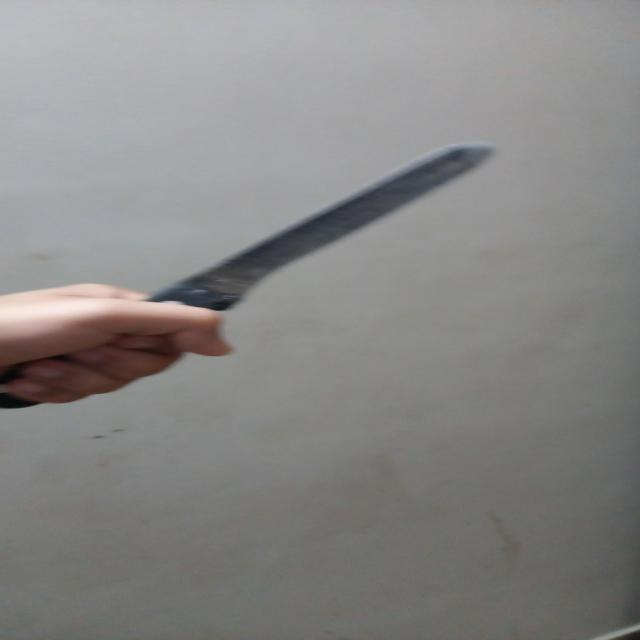Knife: (0, 141, 498, 409)
Person: (0, 283, 237, 403)
